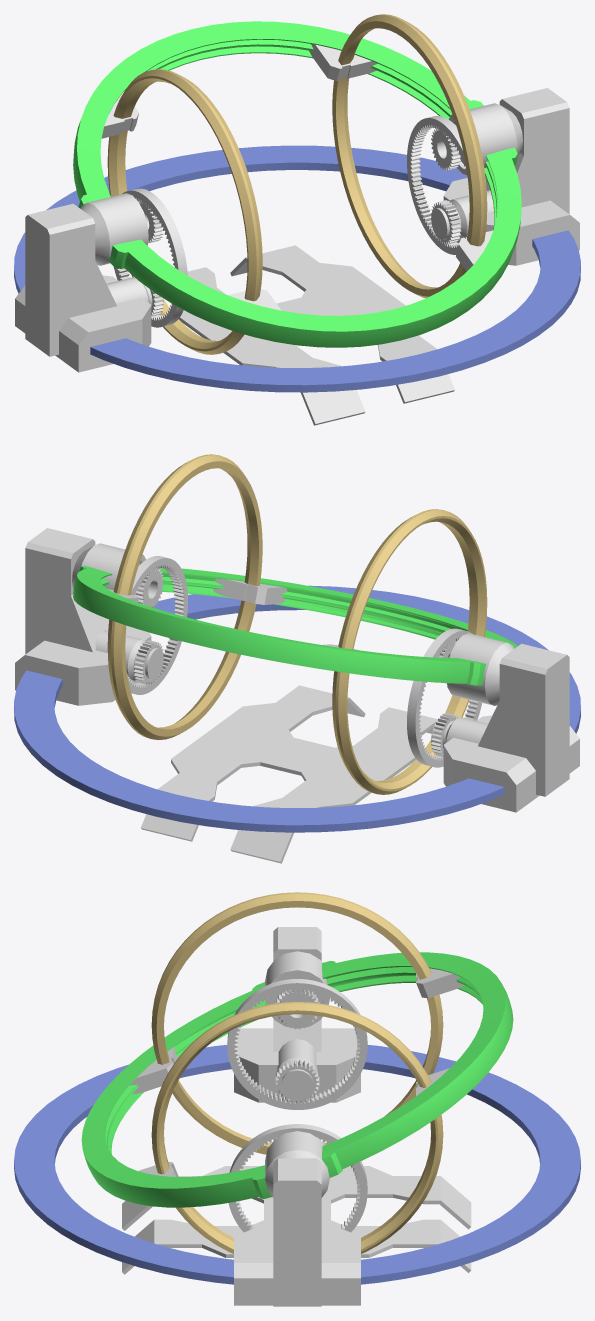
File: Swivel 1.0.fbx
The picture shows the model from 3 angles, top to bottom: view 1: azimuth 30°, elevation 25°; view 2: azimuth 150°, elevation 25°; view 3: azimuth 270°, elevation 25°; orthographic projection.
Visible parts, largest first — view 1: S.Azimuth Correction Ring, S.Horizon Bearing, S.Azimuth Rings, S.Axis Support, S.Floor Plate, S.Axis Mount, S.Azimuth Correction Bearings, Azimuth Rail Brackets, S.Left Transit Gear, S.Azimuth Motors, S.Right Transit Gear, S.Left Load Gear (+1 smaller); view 2: S.Horizon Bearing, S.Floor Plate, S.Azimuth Rings, S.Azimuth Correction Ring, S.Axis Support, S.Axis Mount, S.Azimuth Correction Bearings, S.Right Transit Gear, S.Left Transit Gear, S.Azimuth Motors, Azimuth Rail Brackets, S.Left Load Gear (+2 smaller); view 3: S.Horizon Bearing, S.Azimuth Correction Ring, S.Azimuth Rings, S.Axis Mount, S.Axis Support, S.Floor Plate, S.Right Transit Gear, S.Azimuth Correction Bearings, S.Left Transit Gear, Azimuth Rail Brackets, S.Azimuth Motors, S.Right Load Gear (+1 smaller).
Part boxes in pixels (x1=…): S.Azimuth Correction Ring: x1=73, y1=21, x2=521, y2=347; S.Horizon Bearing: x1=14, y1=145, x2=580, y2=392; S.Azimuth Rings: x1=107, y1=14, x2=487, y2=354; S.Axis Support: x1=25, y1=88, x2=569, y2=356; S.Floor Plate: x1=179, y1=245, x2=454, y2=425; S.Axis Mount: x1=15, y1=178, x2=579, y2=372; S.Azimuth Correction Bearings: x1=80, y1=103, x2=522, y2=265; Azimuth Rail Brackets: x1=101, y1=44, x2=493, y2=310; S.Left Transit Gear: x1=407, y1=116, x2=467, y2=254; S.Azimuth Motors: x1=107, y1=190, x2=493, y2=307; S.Right Transit Gear: x1=113, y1=188, x2=187, y2=327; S.Left Load Gear: x1=431, y1=127, x2=460, y2=170; S.Horizon Bearing: x1=14, y1=585, x2=580, y2=832; S.Floor Plate: x1=141, y1=685, x2=437, y2=863; S.Azimuth Rings: x1=107, y1=454, x2=487, y2=794; S.Azimuth Correction Ring: x1=73, y1=565, x2=517, y2=685; S.Axis Support: x1=25, y1=528, x2=569, y2=796; S.Axis Mount: x1=15, y1=625, x2=579, y2=812; S.Azimuth Correction Bearings: x1=72, y1=543, x2=514, y2=705; S.Right Transit Gear: x1=407, y1=628, x2=481, y2=767; S.Left Transit Gear: x1=127, y1=556, x2=187, y2=694; S.Azimuth Motors: x1=95, y1=630, x2=488, y2=747; Azimuth Rail Brackets: x1=108, y1=578, x2=358, y2=650; S.Left Load Gear: x1=135, y1=568, x2=163, y2=607; S.Horizon Bearing: x1=14, y1=1045, x2=580, y2=1284; S.Azimuth Correction Ring: x1=81, y1=952, x2=513, y2=1207; S.Azimuth Rings: x1=151, y1=892, x2=443, y2=1253; S.Axis Mount: x1=234, y1=1028, x2=360, y2=1305; S.Axis Support: x1=273, y1=927, x2=321, y2=1306; S.Floor Plate: x1=122, y1=1166, x2=471, y2=1274; S.Right Transit Gear: x1=227, y1=979, x2=367, y2=1109; S.Azimuth Correction Bearings: x1=265, y1=951, x2=329, y2=1197; S.Left Transit Gear: x1=228, y1=1124, x2=367, y2=1232; Azimuth Rail Brackets: x1=129, y1=968, x2=464, y2=1176; S.Azimuth Motors: x1=276, y1=1039, x2=318, y2=1099; S.Right Load Gear: x1=275, y1=989, x2=319, y2=1029.
Size of the model in its own units: 74.09 by 39.9 by 70.
